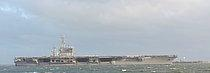MIL_Ship: (12, 35, 177, 65)
